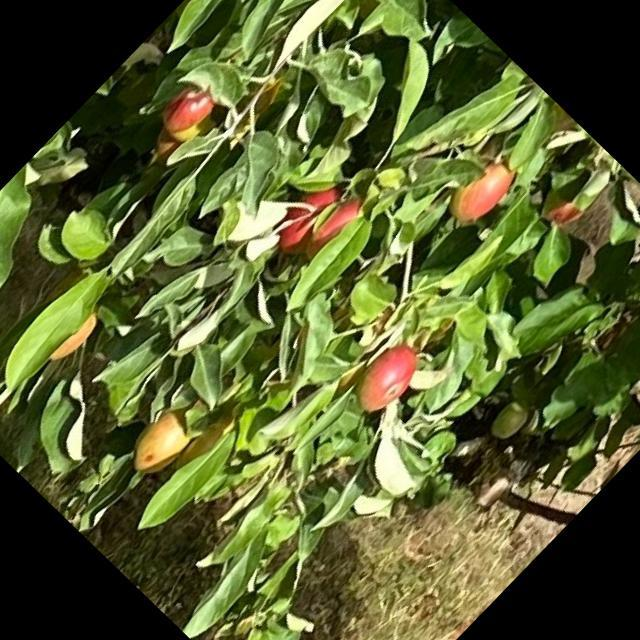100-_ripeness: (441, 149, 523, 232), (346, 338, 426, 418), (124, 404, 200, 480), (271, 178, 343, 250), (299, 194, 366, 262), (154, 76, 218, 142), (173, 418, 227, 472), (536, 182, 588, 235), (50, 312, 101, 366)
